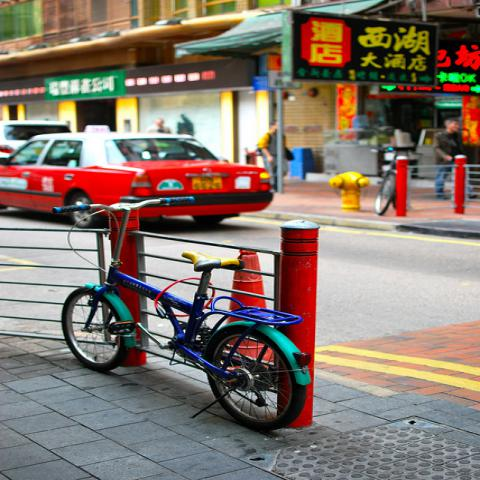car: (0, 126, 273, 225), (0, 121, 73, 163)
